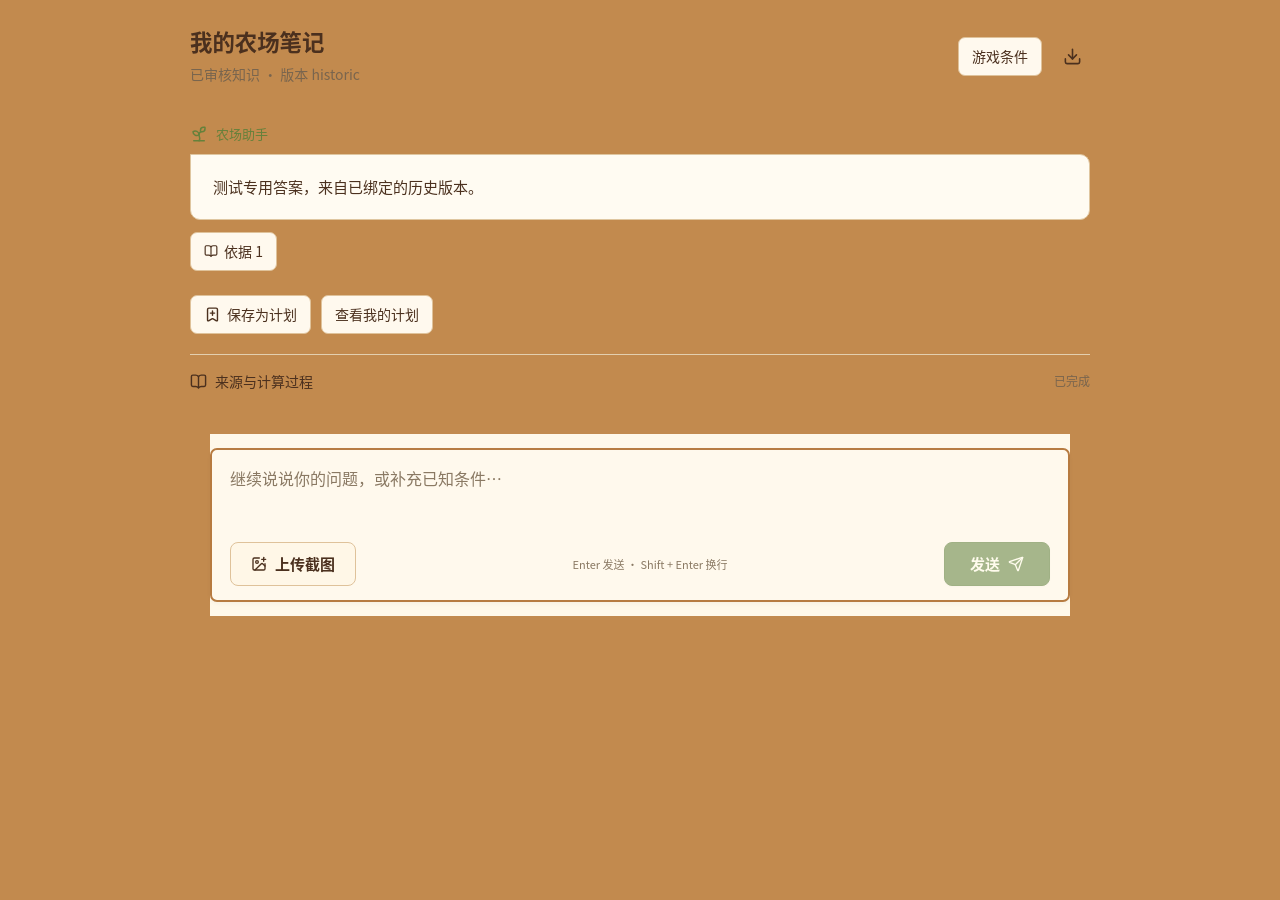
existing task interactions › loads evidence from the task snapshot rather than the newest candidate
Click the button "依据 1".
click(233, 251)  # box [190,232,277,271]
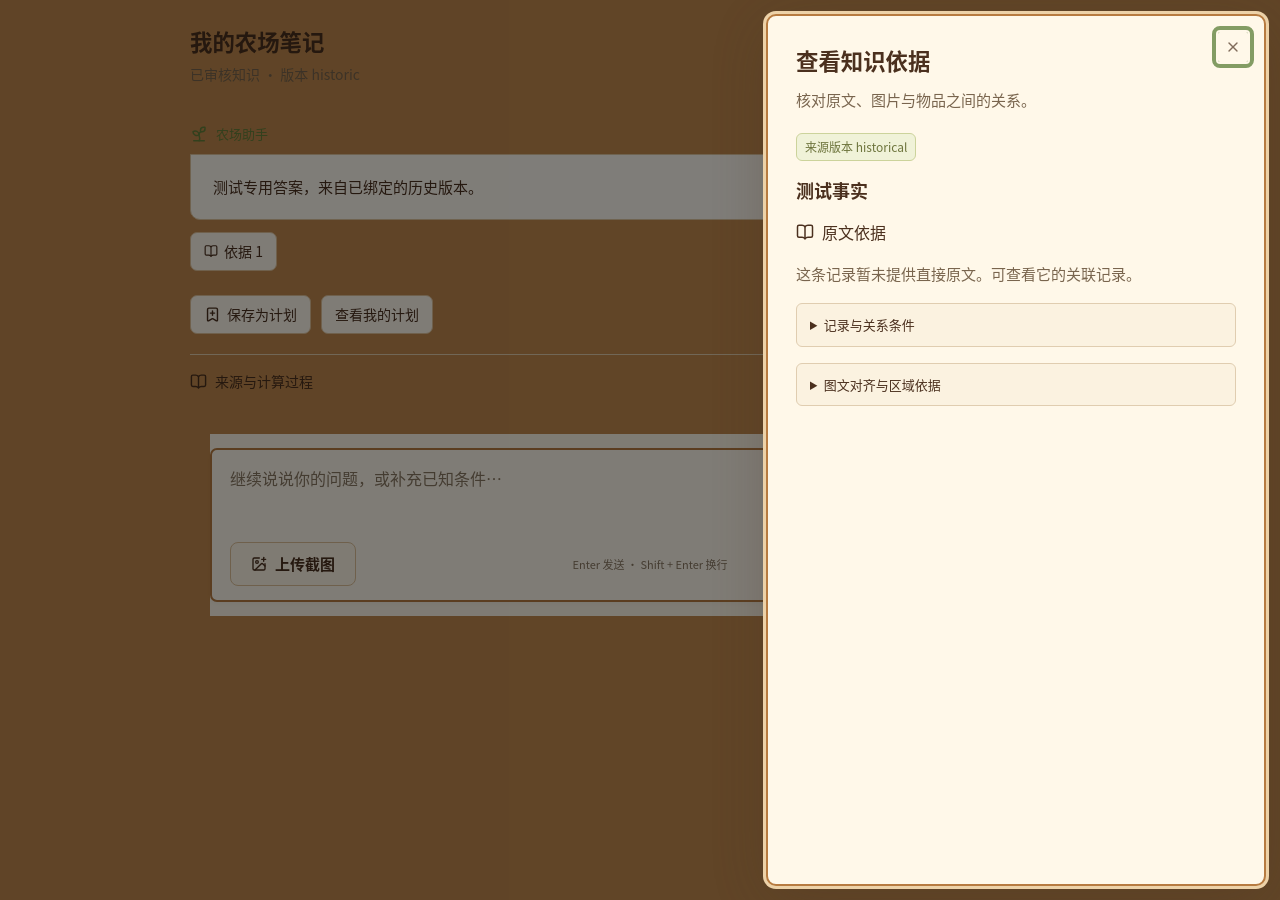
Now the heading "测试事实" is shown, box [796,177,868,203]
